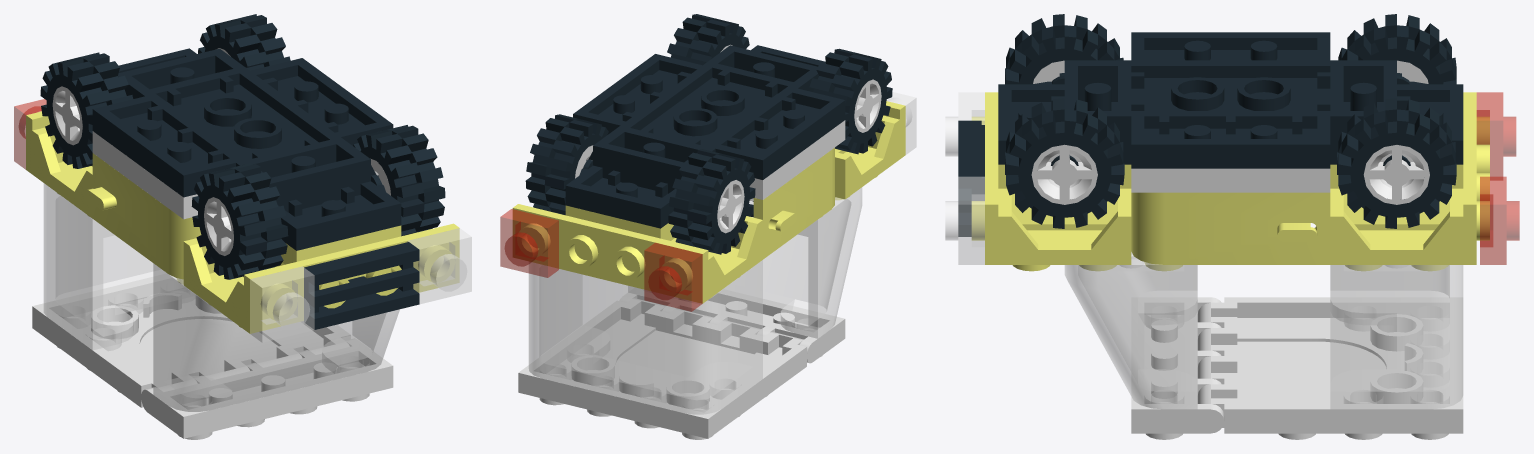
The model's file is car-2.glb.
3 renders of one model, left to right at view 1: azimuth 30°, elevation 25°; view 2: azimuth 150°, elevation 25°; view 3: azimuth 270°, elevation 25°, orthographic. The views are drawn at different scales.
Bounding box in the file's own units: 90.01 × 107 × 173.
